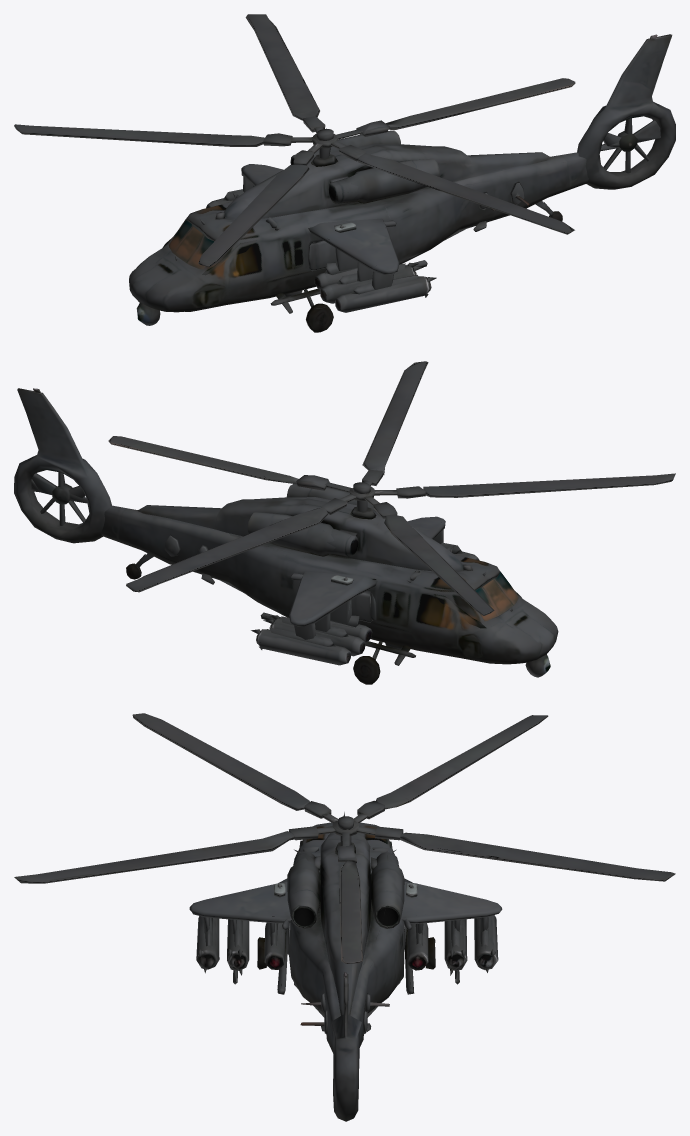
The model's file is heli.glb.
The picture shows the model from 3 angles, top to bottom: view 1: azimuth 30°, elevation 25°; view 2: azimuth 150°, elevation 25°; view 3: azimuth 270°, elevation 25°; orthographic projection. The views are drawn at different scales.
Parts seen in each view (by area): view 1: geometry_0; view 2: geometry_0; view 3: geometry_0.
Boxes of the visible parts, x1,y1,x2,y2 form: geometry_0: [14, 14, 675, 332]; geometry_0: [14, 361, 675, 684]; geometry_0: [14, 713, 675, 1121].
Bounding box in the file's own units: 1 × 0.2988 × 0.9437.
Materials: 1 (1 with a texture image).
